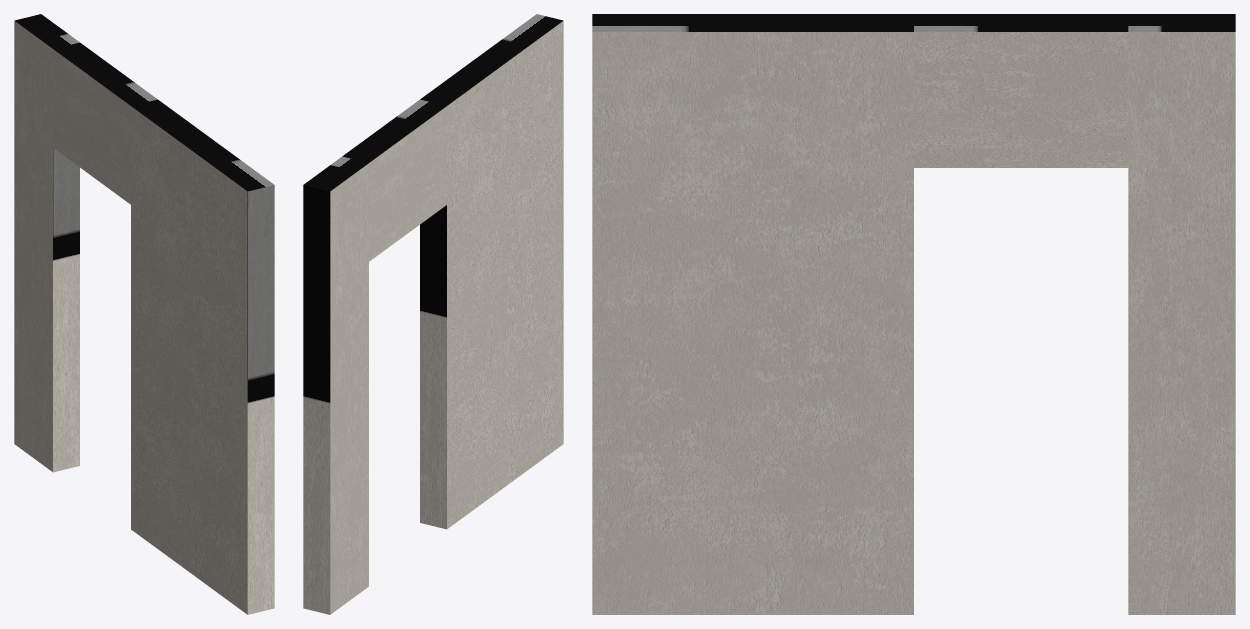
File: wall_door_inside.glb
The picture shows the model from 3 angles, left to right: view 1: azimuth 30°, elevation 25°; view 2: azimuth 150°, elevation 25°; view 3: azimuth 270°, elevation 25°; orthographic projection. The views are drawn at different scales.
Parts seen in each view (by area): view 1: Cube, Cube.002, Cube.001; view 2: Cube, Cube.002, Cube.001; view 3: Cube, Cube.002, Cube.001.
Boxes of the visible parts, bbox=[...] form: Cube: bbox=[131, 99, 274, 614]; Cube.002: bbox=[14, 14, 79, 472]; Cube.001: bbox=[53, 42, 157, 204]; Cube: bbox=[420, 14, 563, 529]; Cube.002: bbox=[303, 156, 368, 614]; Cube.001: bbox=[342, 99, 446, 261]; Cube: bbox=[592, 14, 913, 614]; Cube.002: bbox=[1128, 14, 1235, 614]; Cube.001: bbox=[914, 14, 1128, 167].
Bounding box in the file's own units: 0.2 × 3 × 3.
1 material, 1 textured.
